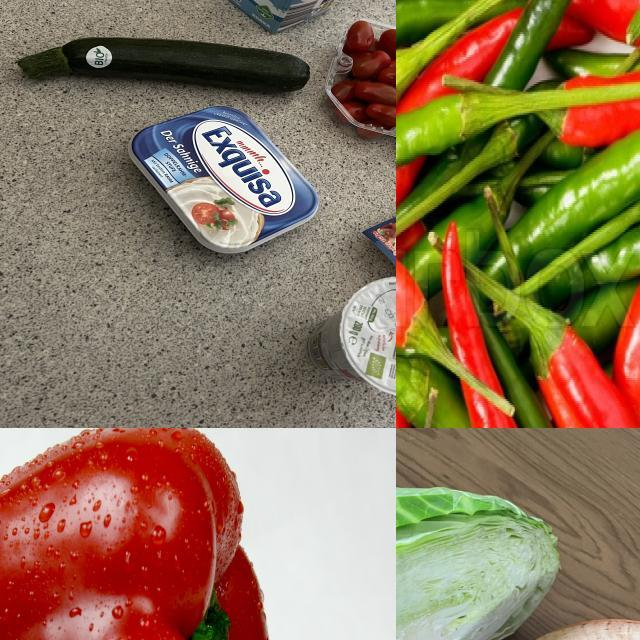bell_pepper: (1, 429, 366, 640)
cabbage: (397, 486, 564, 640)
tomato: (359, 43, 397, 122)
zucchini: (13, 26, 311, 108)
